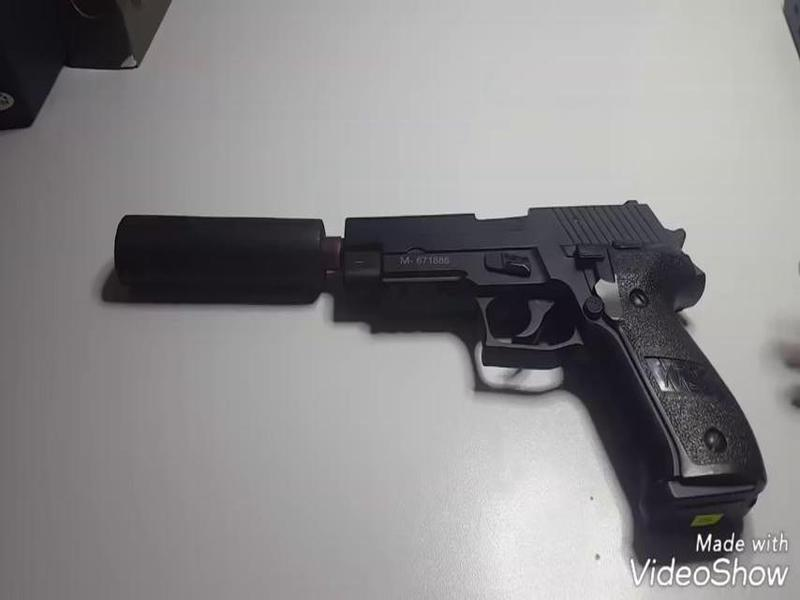Pistola: (90, 144, 771, 512)
